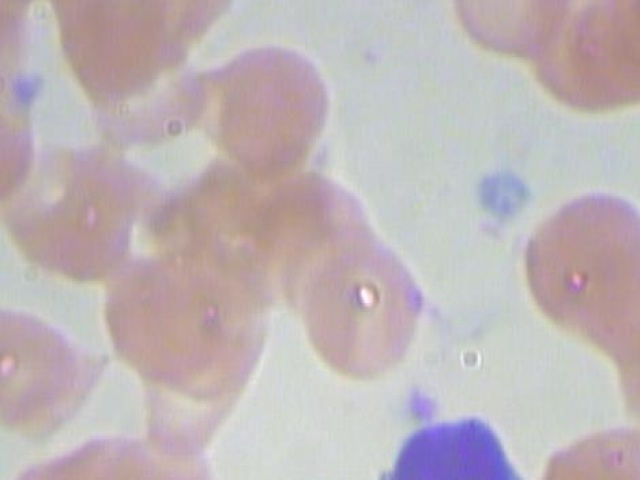Platelets: (460, 155, 542, 226), (0, 66, 48, 116), (396, 380, 444, 428)
RBC: (197, 23, 345, 182), (84, 237, 232, 396), (280, 227, 428, 385), (0, 121, 146, 280), (512, 180, 640, 339), (516, 0, 640, 123), (0, 284, 92, 442), (38, 0, 186, 97), (440, 0, 587, 74), (83, 411, 231, 480), (86, 414, 233, 480), (540, 420, 640, 480), (0, 66, 36, 224), (585, 0, 640, 93), (0, 439, 122, 480), (114, 0, 265, 20), (0, 0, 94, 20)
WBC: (369, 411, 538, 480)
